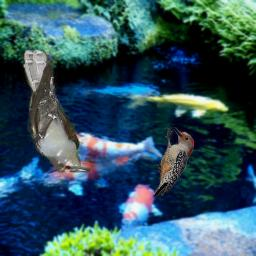Cuckoo: (21, 50, 91, 175)
Woodpecker: (154, 127, 194, 196)
